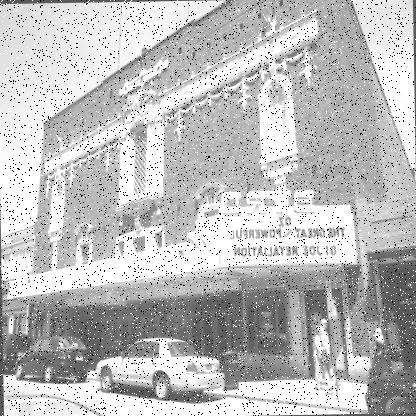Car: (95, 336, 226, 400), (14, 336, 87, 385), (3, 393, 111, 415), (365, 366, 415, 413), (2, 334, 30, 374)
